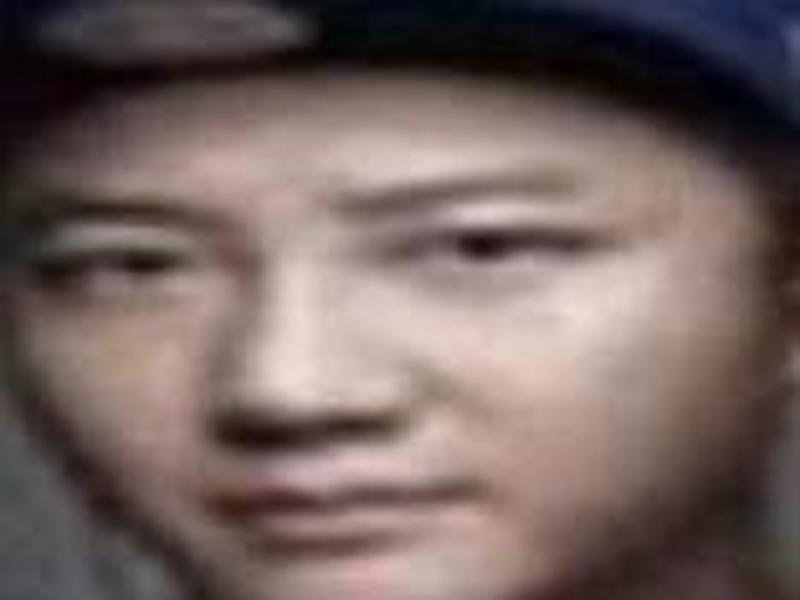without_mask: (13, 101, 800, 600)
